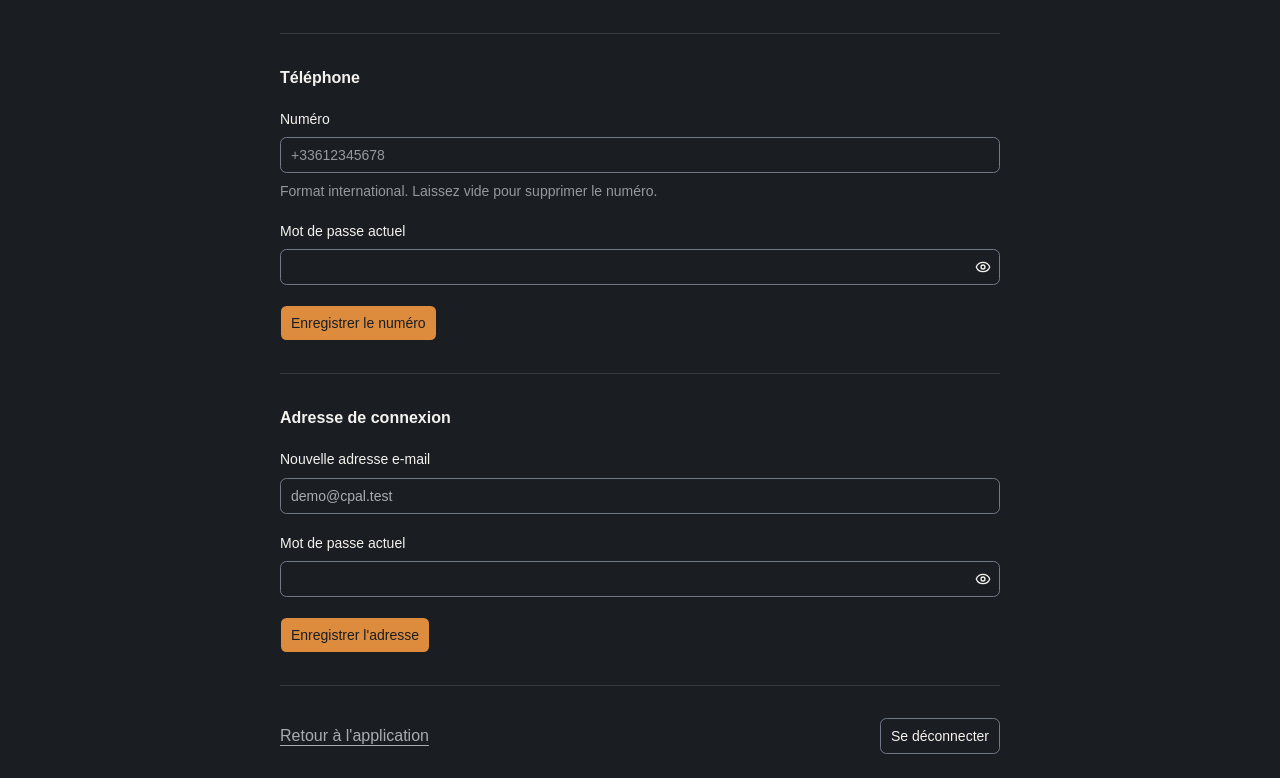
it: Account (KAN-152, FR9, FR10) › on a successful e-mail change shows the "not yet verified" message (FR14)
(page scrolled)
Expected: the element with test id "account-email-section" is shown, [280,406,1000,653]
Replace the text in the field with test id "account-email-address" with "NEW@cpal.test": (640, 496) [280,478,1000,514]
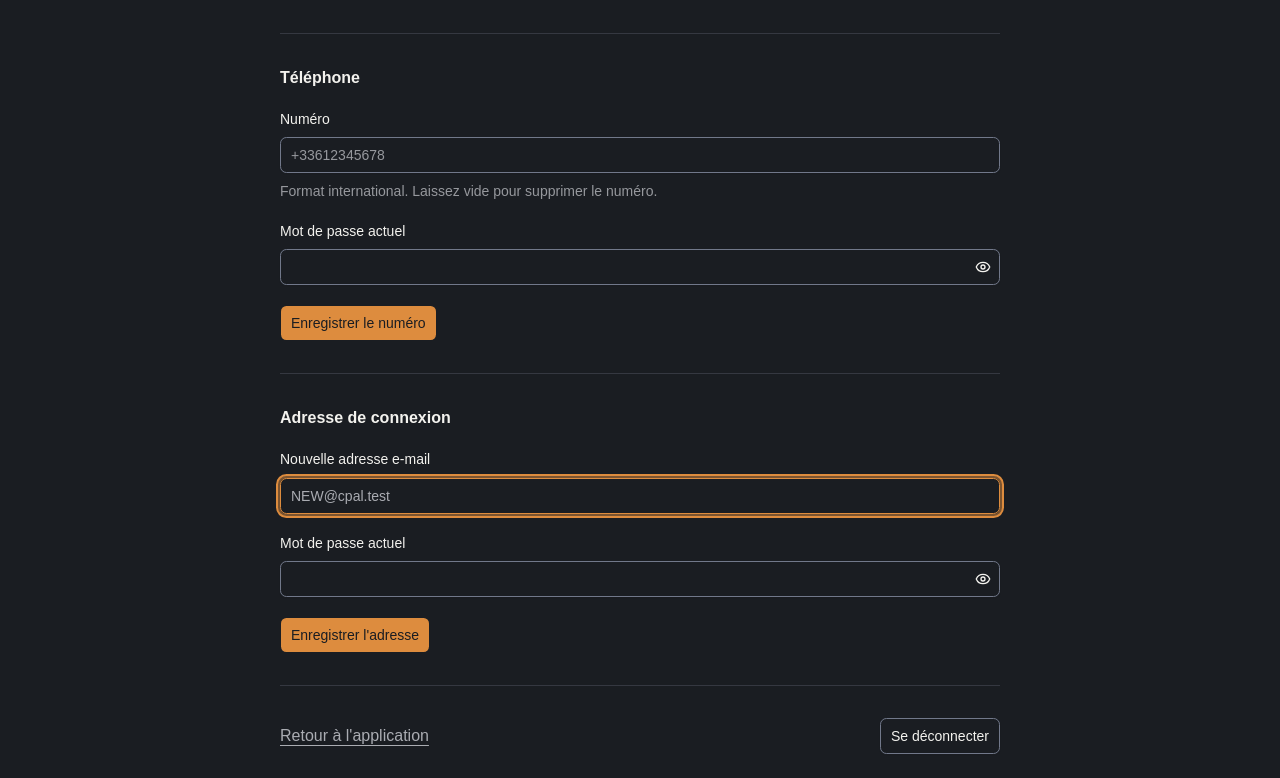
In the password field with test id "account-email-current-password": (626, 579) [281,561,971,597], type "pw"
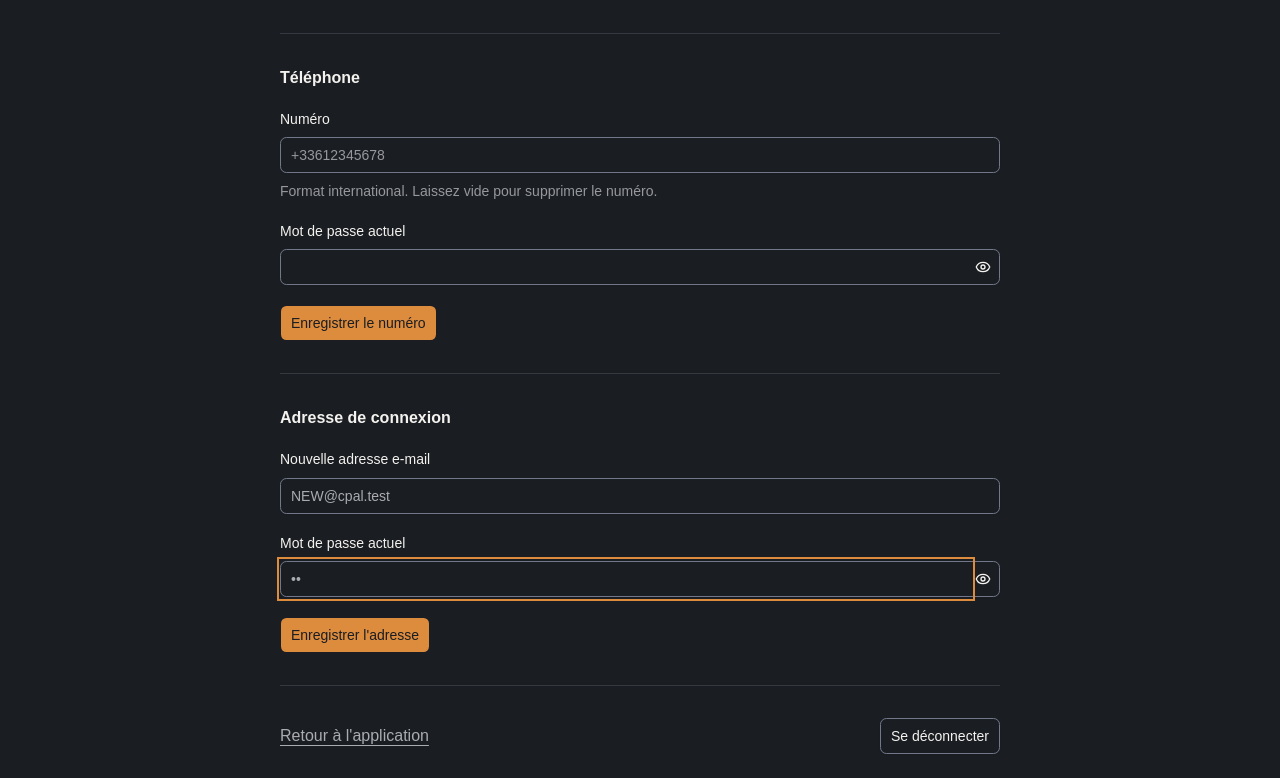
Click the button with test id "account-email-submit": click(355, 635) [280,617,430,653]
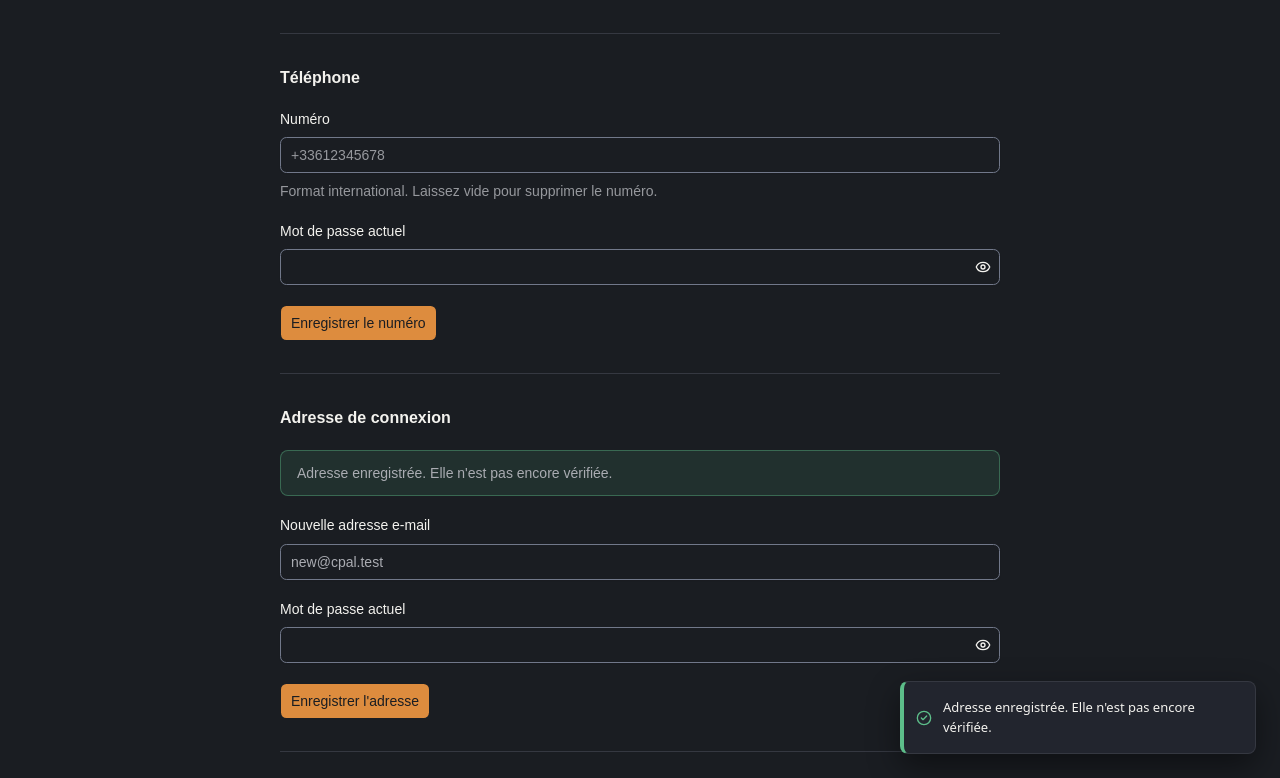
Now the message with test id "account-email-success" shows "Elle n'est pas encore vérifiée.", box [297,465,612,481]
